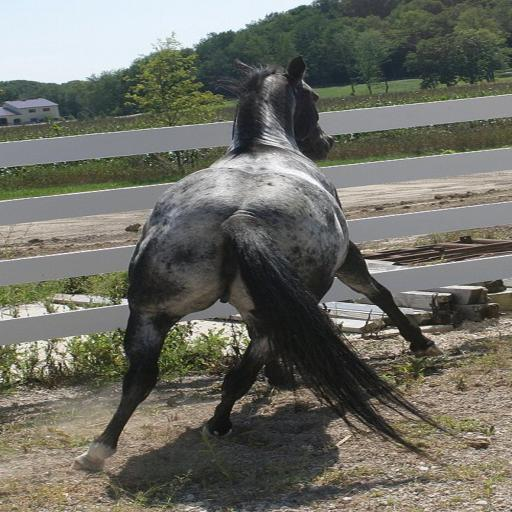horse: (60, 52, 474, 470)
